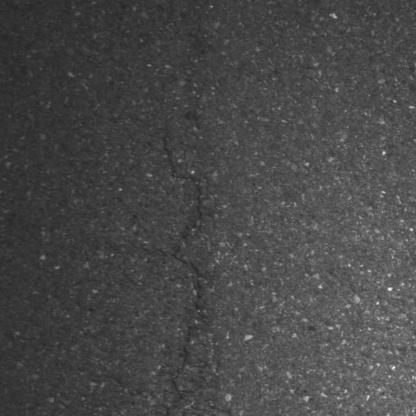Cracks: (141, 245, 211, 329), (160, 136, 209, 236), (167, 324, 195, 405), (156, 401, 186, 416)
